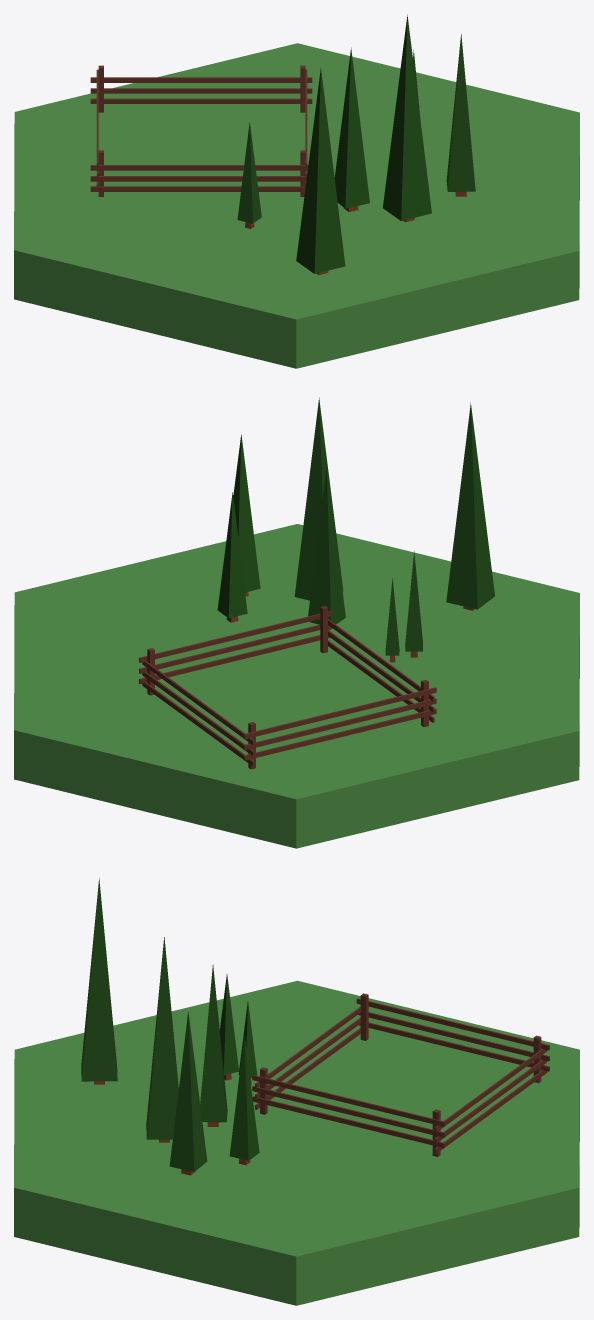
Rendered from Planet_FenceWhole_Hexagon (1).fbx.
The picture shows the model from 3 angles, top to bottom: view 1: azimuth 30°, elevation 25°; view 2: azimuth 150°, elevation 25°; view 3: azimuth 270°, elevation 25°; orthographic projection.
Parts seen in each view (by area): view 1: polySurface5, pCube200, pCube1, pCube5, pCube4, pCube11, pCube181, pCube182, pCube180, pCube191, pCube189, pCube190; view 2: polySurface5, pCube200, pCube1, pCube5, pCube4, pCube8, pCube185, pCube183, pCube184, pCube186, pCube188, pCube187 (+8 smaller); view 3: polySurface5, pCube200, pCube1, pCube4, pCube5, pCube8, pCube186, pCube188, pCube187, pCube11, pCube185, pCube183 (+8 smaller).
Part boxes in pixels (x1=…): polySurface5: x1=14, y1=43, x2=579, y2=368; pCube200: x1=296, y1=68, x2=345, y2=273; pCube1: x1=383, y1=14, x2=431, y2=221; pCube5: x1=334, y1=47, x2=369, y2=208; pCube4: x1=446, y1=34, x2=475, y2=191; pCube11: x1=237, y1=122, x2=261, y2=223; pCube181: x1=90, y1=88, x2=312, y2=93; pCube182: x1=90, y1=77, x2=312, y2=82; pCube180: x1=90, y1=98, x2=312, y2=103; pCube191: x1=90, y1=165, x2=308, y2=170; pCube189: x1=90, y1=176, x2=306, y2=181; pCube190: x1=90, y1=186, x2=305, y2=191; polySurface5: x1=14, y1=524, x2=579, y2=848; pCube200: x1=446, y1=403, x2=494, y2=609; pCube1: x1=294, y1=397, x2=343, y2=600; pCube5: x1=308, y1=466, x2=345, y2=627; pCube4: x1=233, y1=434, x2=260, y2=592; pCube8: x1=217, y1=492, x2=247, y2=618; pCube185: x1=243, y1=687, x2=436, y2=739; pCube183: x1=243, y1=698, x2=436, y2=750; pCube184: x1=243, y1=708, x2=436, y2=760; pCube186: x1=139, y1=611, x2=332, y2=662; pCube188: x1=139, y1=624, x2=330, y2=673; pCube187: x1=139, y1=635, x2=330, y2=684; polySurface5: x1=14, y1=980, x2=579, y2=1305; pCube200: x1=81, y1=878, x2=117, y2=1081; pCube1: x1=146, y1=937, x2=178, y2=1139; pCube4: x1=169, y1=1012, x2=207, y2=1171; pCube5: x1=200, y1=964, x2=227, y2=1122; pCube8: x1=229, y1=1034, x2=259, y2=1160; pCube186: x1=252, y1=1075, x2=445, y2=1126; pCube188: x1=252, y1=1086, x2=445, y2=1137; pCube187: x1=252, y1=1096, x2=445, y2=1148; pCube11: x1=219, y1=974, x2=238, y2=1075; pCube185: x1=356, y1=998, x2=549, y2=1050; pCube183: x1=358, y1=1012, x2=549, y2=1061.
Bounding box in the file's own units: 6.28 × 2.7 × 5.44.
